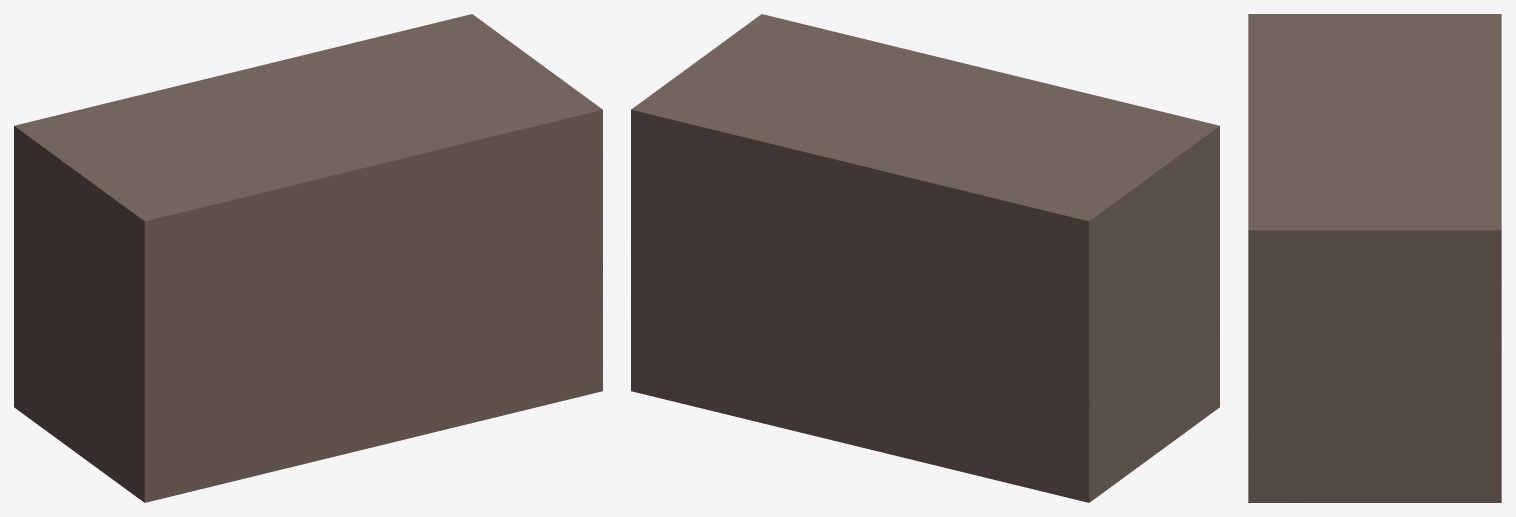
Rendered from rock2_wall_decoration.fbx.
The picture shows the model from 3 angles, left to right: view 1: azimuth 30°, elevation 25°; view 2: azimuth 150°, elevation 25°; view 3: azimuth 270°, elevation 25°; orthographic projection. The views are drawn at different scales.
Visible parts, largest first — view 1: rock2_wall_decoration; view 2: rock2_wall_decoration; view 3: rock2_wall_decoration.
Part boxes in pixels (x1=…): rock2_wall_decoration: x1=14, y1=14, x2=602, y2=502; rock2_wall_decoration: x1=631, y1=14, x2=1219, y2=502; rock2_wall_decoration: x1=1248, y1=14, x2=1501, y2=502.
Size of the model in its own units: 590 by 347 by 292.
